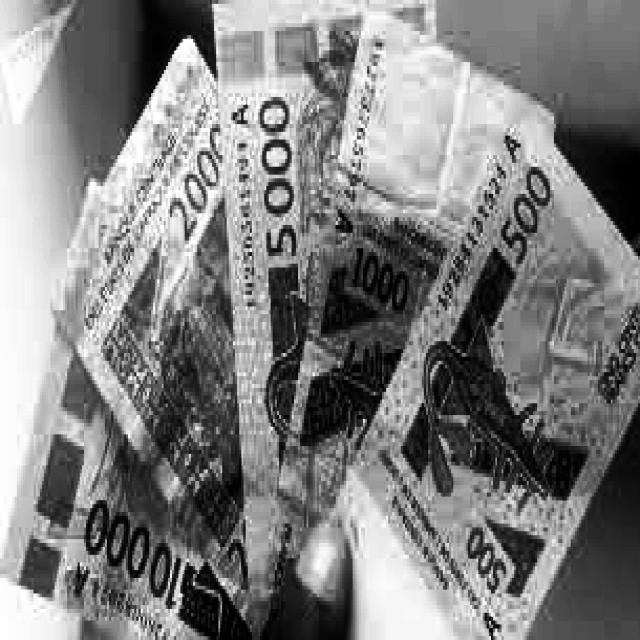junni: (215, 0, 362, 609)
niaar junni: (2, 335, 250, 638)
niaar teemeer: (271, 12, 505, 579)
nient teemeer: (68, 46, 241, 555)
teemeer: (355, 97, 640, 637)
